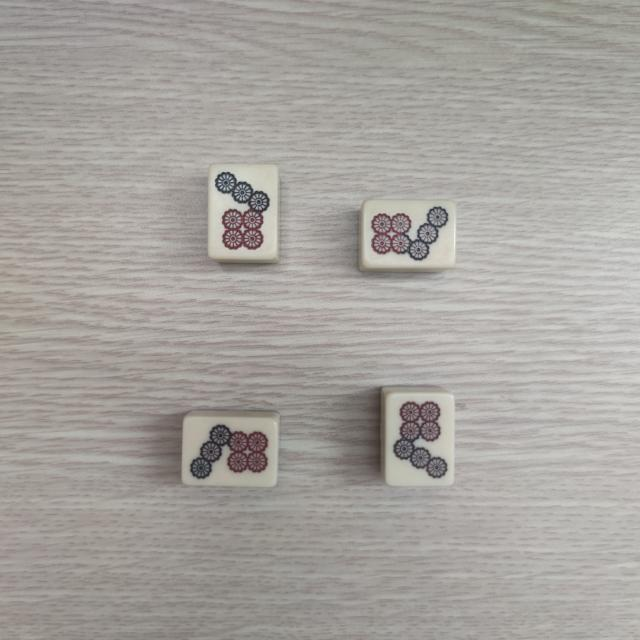sd7: (186, 420, 275, 484), (212, 168, 273, 254), (389, 397, 451, 481), (367, 208, 450, 264)
